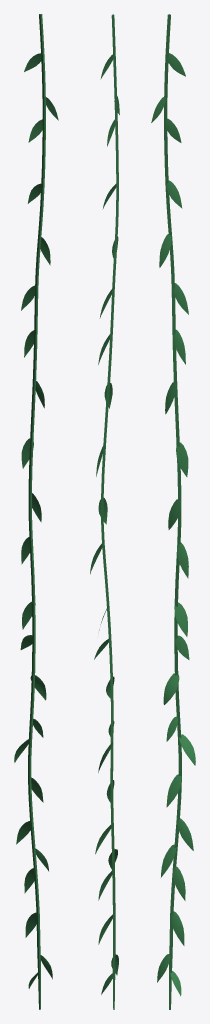
The model's file is vine_C_scanden.fbx.
3 renders of one model, left to right at view 1: azimuth 90°, elevation 25°; view 2: azimuth 150°, elevation 25°; view 3: azimuth 270°, elevation 25°, orthographic.
Visible parts, largest first — view 1: vine_C_scanden_root, vine_C_scanden_leaf_A6, vine_C_scanden_leaf_B2, vine_C_scanden_leaf_A18, vine_C_scanden_leaf_A16, vine_C_scanden_leaf_A4, vine_C_scanden_leaf_A11, vine_C_scanden_leaf_A17, vine_C_scanden_leaf_A8, vine_C_scanden_leaf_A5, vine_C_scanden_leaf_A12, vine_C_scanden_leaf_A9 (+4 smaller); view 2: vine_C_scanden_root, vine_C_scanden_leaf_B3; view 3: vine_C_scanden_root, vine_C_scanden_leaf_B2, vine_C_scanden_leaf_A4, vine_C_scanden_leaf_A6, vine_C_scanden_leaf_A5, vine_C_scanden_leaf_A18, vine_C_scanden_leaf_A17, vine_C_scanden_leaf_A15, vine_C_scanden_leaf_A16, vine_C_scanden_leaf_B1, vine_C_scanden_leaf_B3, vine_C_scanden_leaf_A9 (+11 smaller).
Part boxes in pixels (x1,y1,x2,y2): vine_C_scanden_root: [28, 14, 45, 1009]; vine_C_scanden_leaf_A6: [21, 438, 33, 468]; vine_C_scanden_leaf_B2: [30, 675, 46, 700]; vine_C_scanden_leaf_A18: [25, 912, 36, 937]; vine_C_scanden_leaf_A16: [16, 821, 30, 844]; vine_C_scanden_leaf_A4: [22, 601, 35, 629]; vine_C_scanden_leaf_A11: [28, 119, 42, 142]; vine_C_scanden_leaf_A17: [24, 868, 34, 893]; vine_C_scanden_leaf_A8: [21, 285, 35, 310]; vine_C_scanden_leaf_A5: [21, 536, 29, 564]; vine_C_scanden_leaf_A12: [24, 53, 41, 71]; vine_C_scanden_leaf_A9: [40, 237, 50, 265]; vine_C_scanden_root: [101, 14, 118, 1009]; vine_C_scanden_leaf_B3: [98, 498, 107, 524]; vine_C_scanden_root: [164, 14, 181, 1009]; vine_C_scanden_leaf_B2: [163, 673, 179, 704]; vine_C_scanden_leaf_A4: [174, 602, 187, 636]; vine_C_scanden_leaf_A6: [176, 442, 188, 476]; vine_C_scanden_leaf_A5: [177, 542, 188, 578]; vine_C_scanden_leaf_A18: [171, 911, 184, 945]; vine_C_scanden_leaf_A17: [173, 866, 185, 900]; vine_C_scanden_leaf_A15: [166, 774, 181, 807]; vine_C_scanden_leaf_A16: [177, 818, 193, 850]; vine_C_scanden_leaf_B1: [179, 734, 195, 765]; vine_C_scanden_leaf_B3: [168, 499, 181, 529]; vine_C_scanden_leaf_A9: [159, 234, 171, 267].
Size of the model in its own units: 15.72 by 724 by 29.48.
